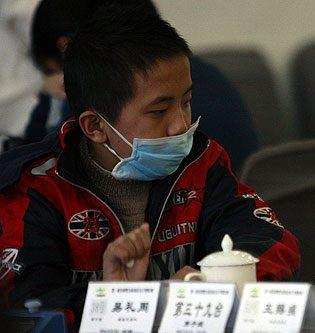WRONG: (91, 76, 195, 180)
